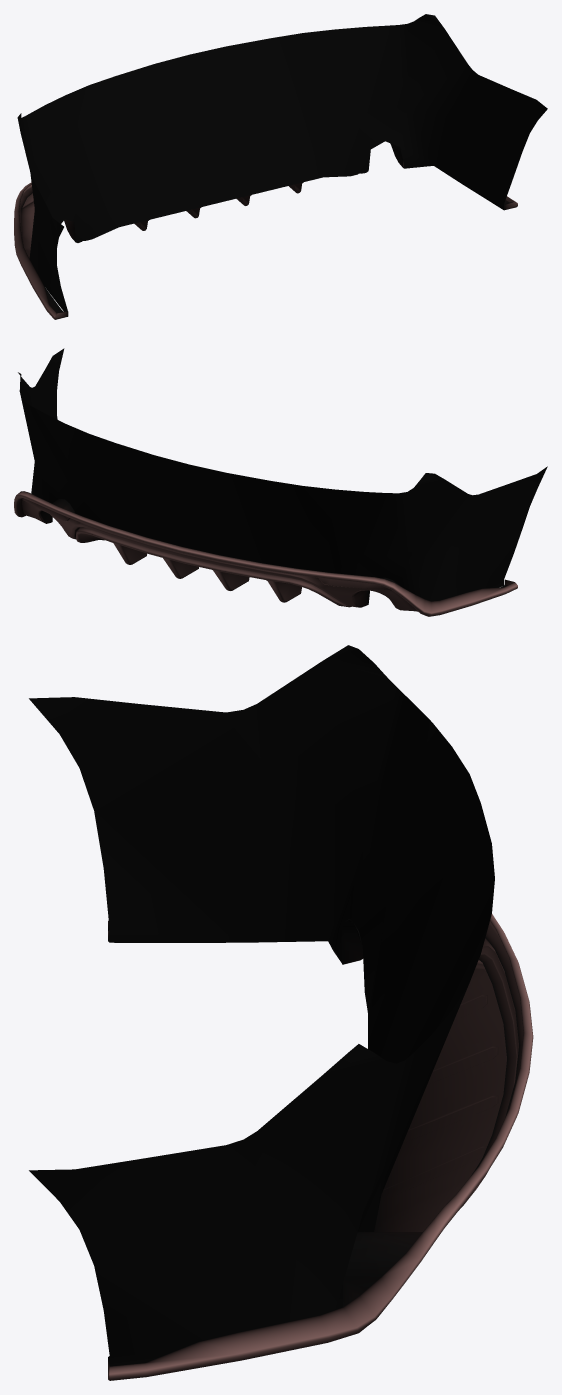
The model's file is Mustang16_RB_06_Trim.fbx.
3 renders of one model, top to bottom at view 1: azimuth 30°, elevation 25°; view 2: azimuth 150°, elevation 25°; view 3: azimuth 270°, elevation 25°, orthographic. The views are drawn at different scales.
Visible parts, largest first — view 1: Mustang16_RB_06_Trim; view 2: Mustang16_RB_06_Trim; view 3: Mustang16_RB_06_Trim.
Boxes of the visible parts, <box> form: Mustang16_RB_06_Trim: <box>14,14,547,319</box>; Mustang16_RB_06_Trim: <box>14,348,547,616</box>; Mustang16_RB_06_Trim: <box>29,645,533,1380</box>.
Size of the model in its own units: 187 by 57.07 by 84.42.
